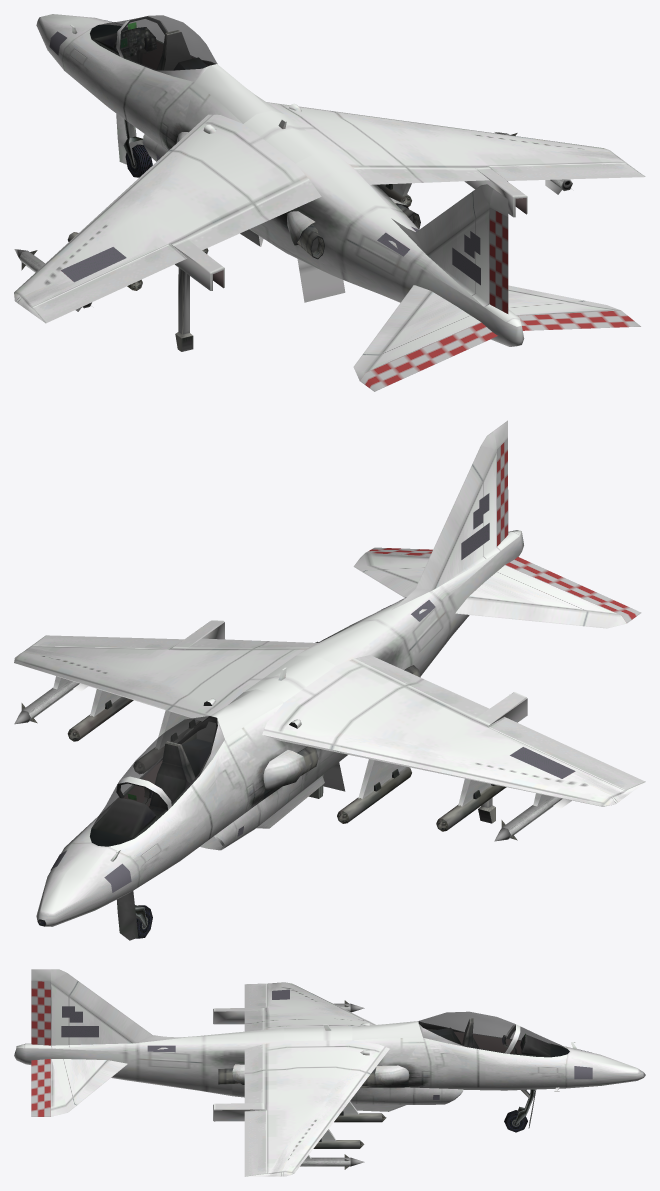
Rendered from hydra.glb.
3 views of the same model, one above another, from view 1: azimuth 30°, elevation 25°; view 2: azimuth 150°, elevation 25°; view 3: azimuth 270°, elevation 25° (orthographic). The views are drawn at different scales.
Parts seen in each view (by area): view 1: Object_5, Object_6, Object_7, Object_10, Object_9, Object_4, Object_8, Object_2; view 2: Object_5, Object_7, Object_10, Object_6, Object_4, Object_9; view 3: Object_5, Object_4, Object_6, Object_10, Object_7, Object_9, Object_2.
Part boxes in pixels (x1,y1,x2,y2): Object_5: (14,14,645,380); Object_6: (49,20,640,391); Object_7: (21,16,517,351); Object_10: (90,15,217,70); Object_9: (14,119,572,311); Object_4: (172,180,513,290); Object_8: (130,18,413,252); Object_2: (142,41,526,287); Object_5: (14,420,645,940); Object_7: (21,641,517,938); Object_10: (38,716,217,926); Object_6: (50,438,641,892); Object_4: (25,622,613,850); Object_9: (14,680,571,926); Object_5: (14,982,643,1176); Object_4: (31,969,358,1174); Object_6: (31,981,592,1116); Object_10: (419,1011,645,1077); Object_7: (218,1000,569,1169); Object_9: (300,1003,534,1166); Object_2: (454,1031,521,1054).
Size of the model in its own units: 9.63 by 3.8 by 13.36.
9 materials, 7 textured.
